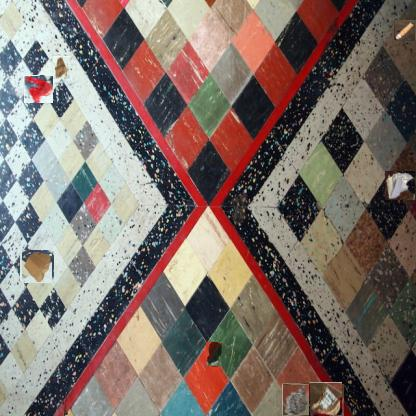dirty: (309, 383, 343, 416), (21, 250, 53, 282), (385, 172, 415, 202), (282, 384, 309, 416), (52, 56, 70, 79), (395, 20, 415, 40)
liquid: (24, 75, 53, 103), (206, 342, 222, 366)
